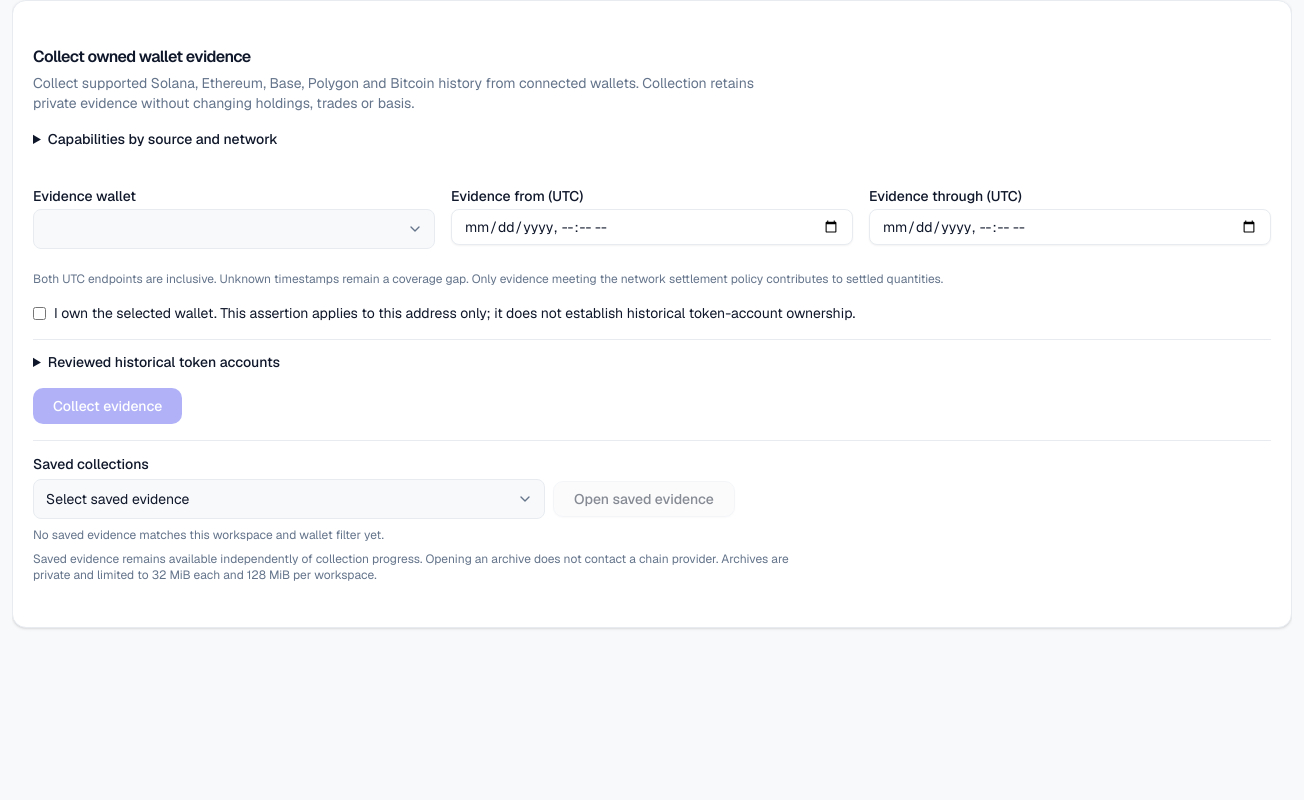
Scenario: distinguishes partial empty retrieval from a filtered empty result
Expected: the dropdown labelled "Evidence wallet" is shown, [33,209,435,249]
Click the checkbox labelled "I own the selected wallet" at (40, 314), box [33,307,46,320]
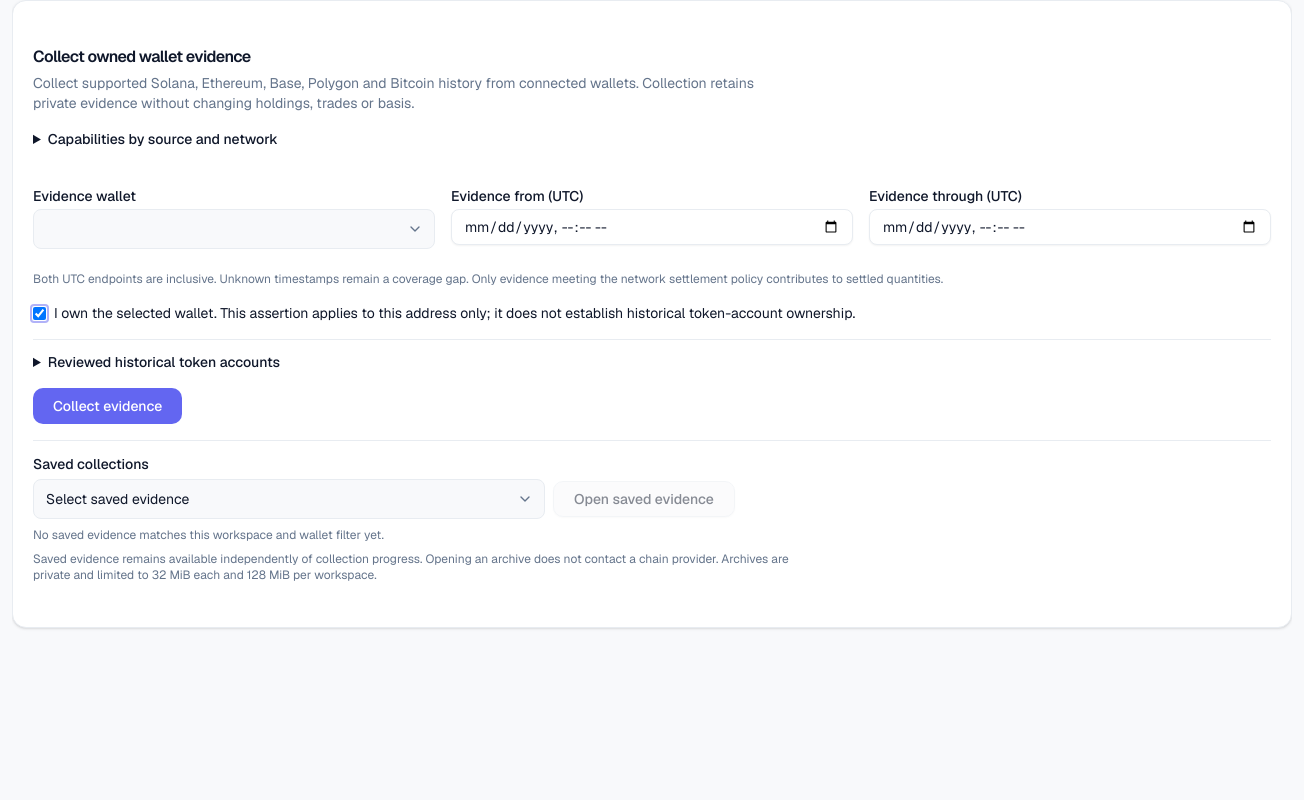
Click the button "Collect evidence" at (108, 406), box [33,388,182,424]
(page scrolled)
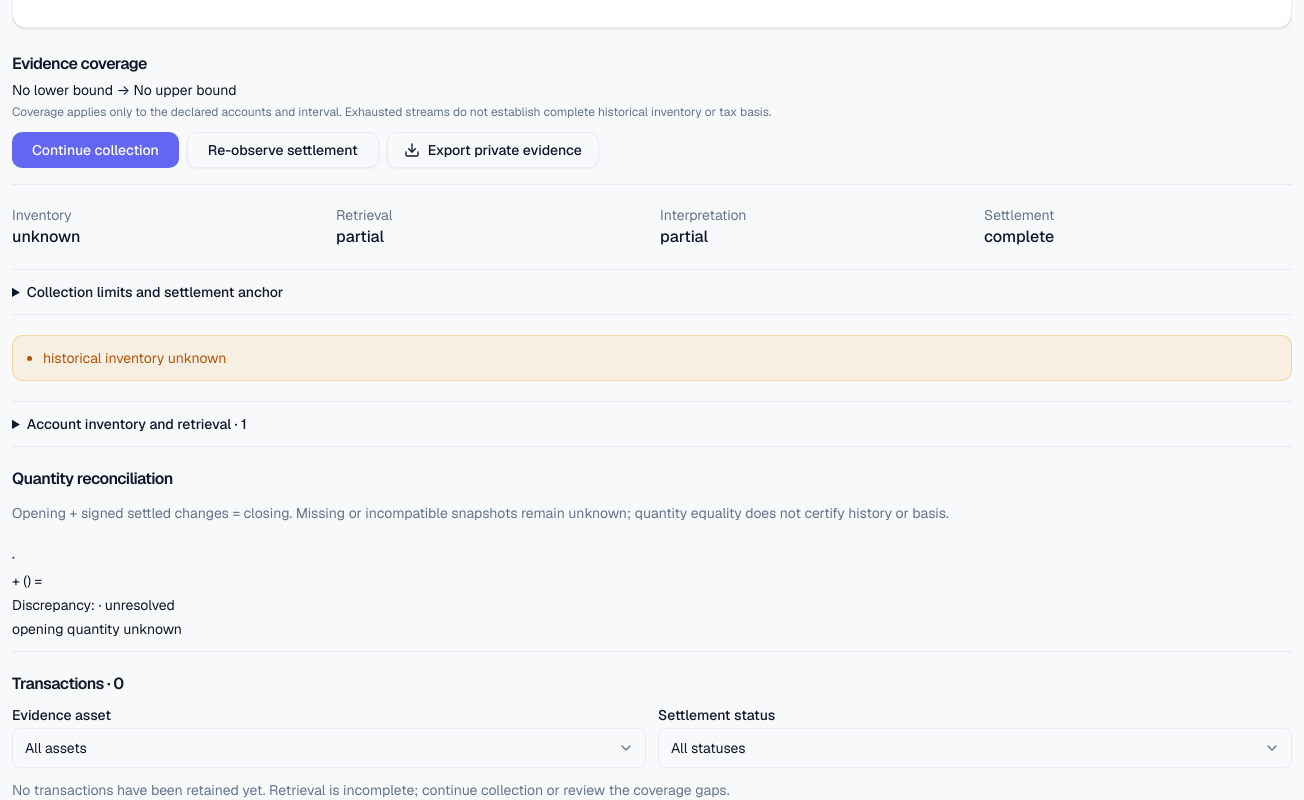
Expected: the text "No transactions have been retained yet" is shown, [12,781,730,799]
